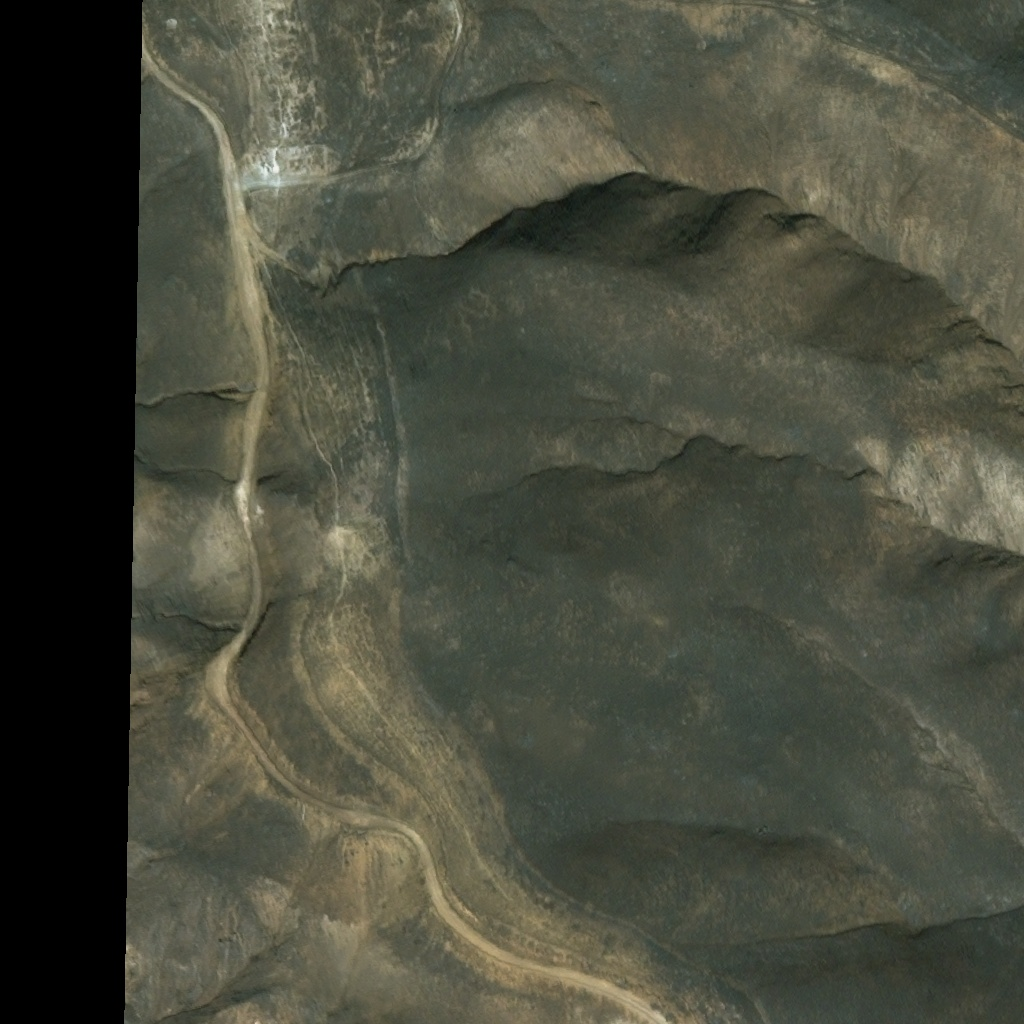4 un-classified: (166, 16, 178, 28)
